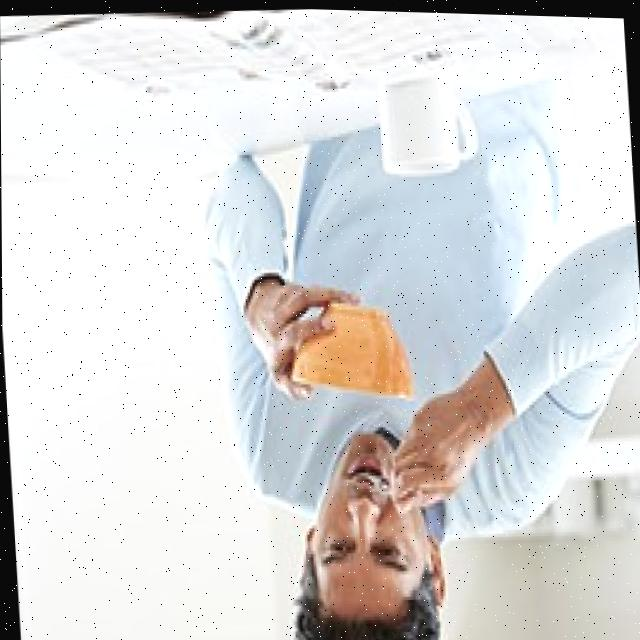eating-person: (175, 64, 640, 640)
